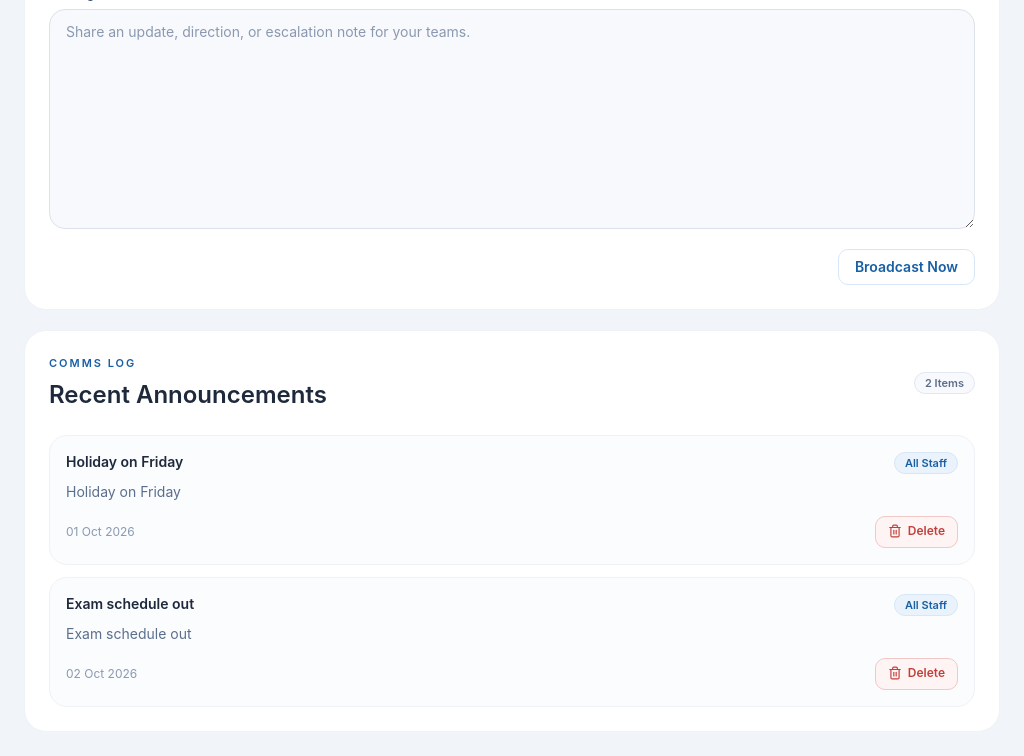
Recent Announcements delete › keeps the item and shows the error when the API fails
(page scrolled)
Check: the 2nd text "Holiday on Friday" is shown, box left=66, top=480, right=183, bottom=504
Click the button with aria-label "Delete announcement" at (916, 532), box left=875, top=516, right=958, bottom=548
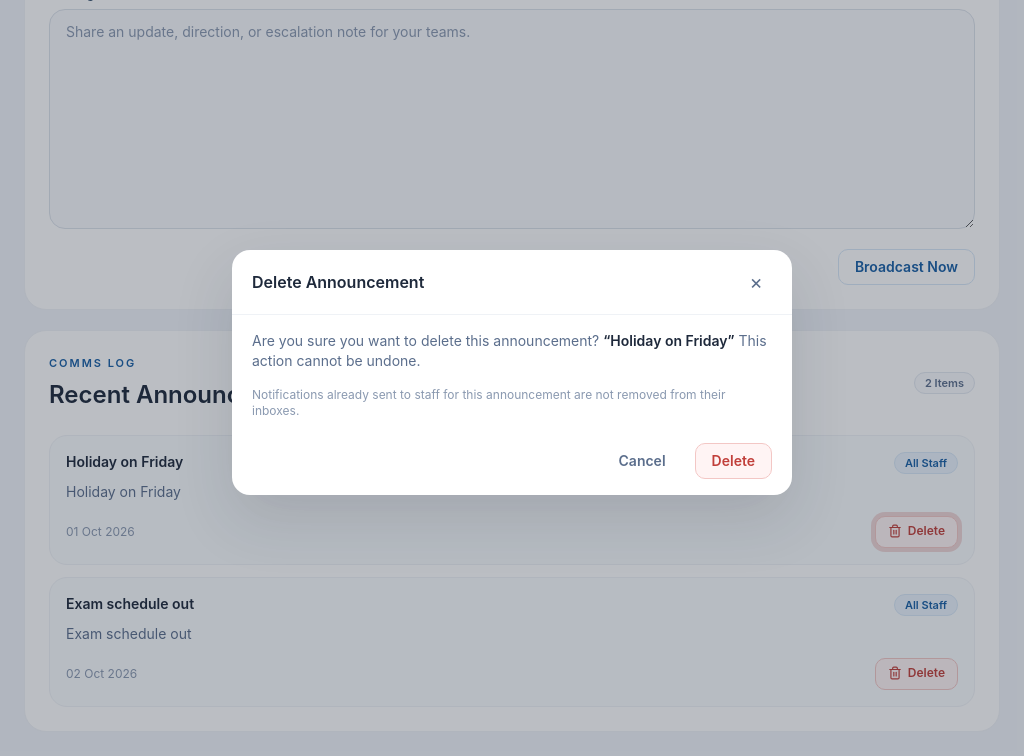
Click the button "Delete" at (733, 460), box left=695, top=442, right=772, bottom=478
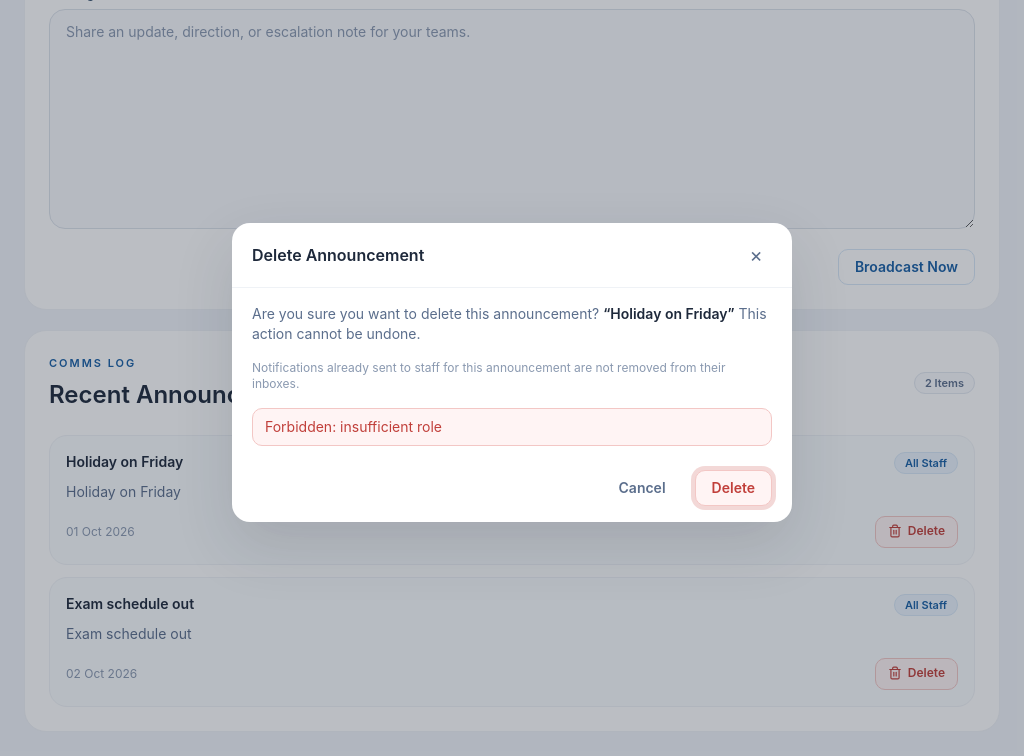
Check: the text "Holiday on Friday" is shown, box left=66, top=480, right=183, bottom=504
Check: the message reads "Forbidden: insufficient role", box left=265, top=418, right=442, bottom=434
